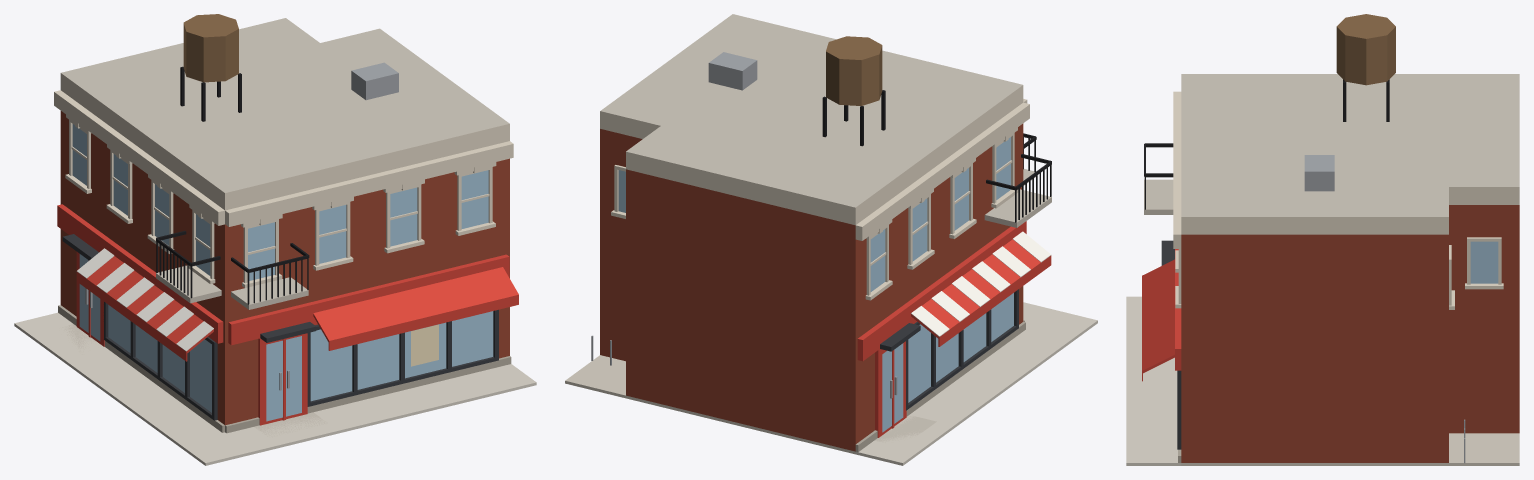
File: Blok_kose_2k_2_Hafif.fbx
3 views of the same model, side by side, from view 1: azimuth 30°, elevation 25°; view 2: azimuth 150°, elevation 25°; view 3: azimuth 270°, elevation 25° (orthographic). The views are drawn at different scales.
Visible parts, largest first — view 1: Blok_kose_2k_2_Hafif; view 2: Blok_kose_2k_2_Hafif; view 3: Blok_kose_2k_2_Hafif.
Boxes of the visible parts, bbox=[...] form: Blok_kose_2k_2_Hafif: bbox=[14, 14, 536, 465]; Blok_kose_2k_2_Hafif: bbox=[565, 14, 1097, 465]; Blok_kose_2k_2_Hafif: bbox=[1126, 14, 1519, 465].
Size of the model in its own units: 10.02 by 9.42 by 10.
